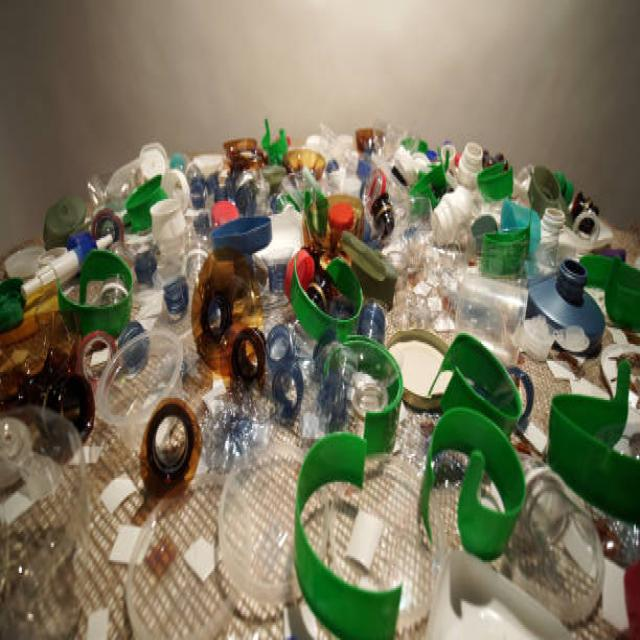plastic: (296, 247, 597, 603), (28, 145, 208, 484)
